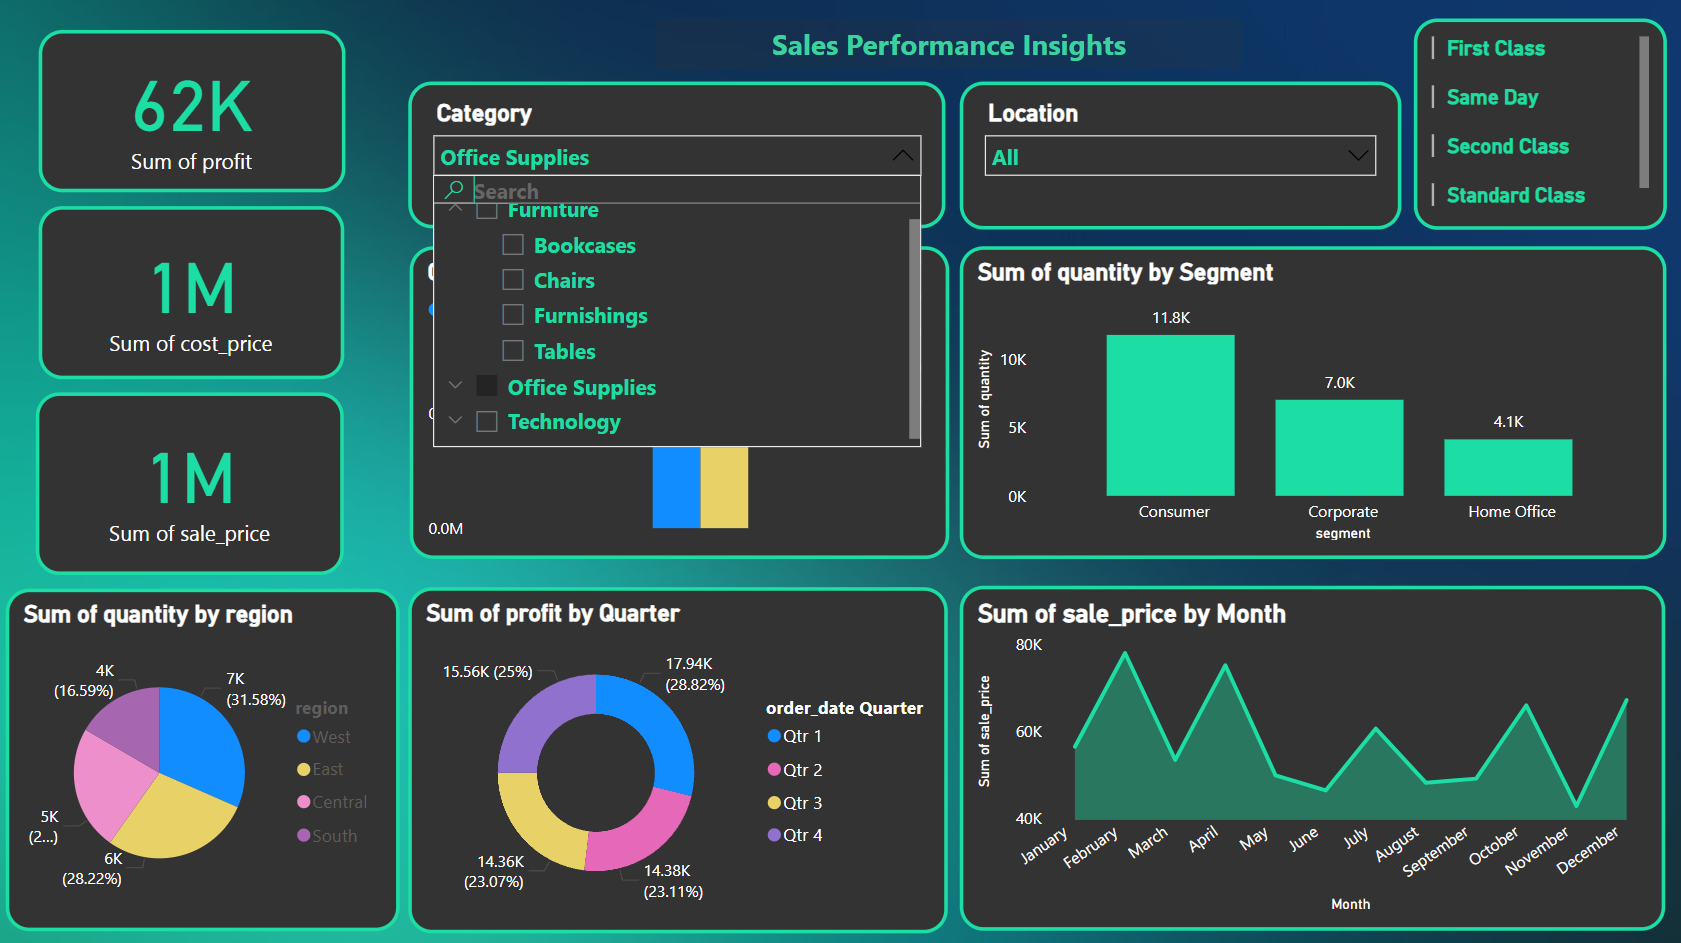

Layout of this report page (visuals, bound fields, positions):
{"tool":"powerbi","page":{"name":"Sales Performance","canvas":[1280,720],"ordinal":0},"visuals":[{"type":"card","fields":{"Values":["Sum(updated_retail_orders.sale_price)"]},"box":[27.8,299.6,234.8,138.8],"z":0},{"type":"card","fields":{"Values":["Sum(updated_retail_orders.profit)"]},"box":[28.9,24.3,233.6,123.8],"z":1000},{"type":"stackedAreaChart","fields":{"Category":["updated_retail_orders.order_date.Variation.Date Hierarchy.Month"],"Y":["Sum(updated_retail_orders.sale_price)"]},"box":[731.2,447.5,537.5,262.5],"z":2000},{"type":"donutChart","fields":{"Category":["updated_retail_orders.order_date.Variation.Date Hierarchy.Quarter"],"Y":["Sum(updated_retail_orders.profit)"]},"box":[310.4,448,410.7,263.5],"z":3000},{"type":"slicer","fields":{"Values":["updated_retail_orders.country","updated_retail_orders.state","updated_retail_orders.city"]},"box":[731.2,63.8,336.2,112.5],"z":4000},{"type":"slicer","fields":{"Values":["updated_retail_orders.category","updated_retail_orders.sub_category"]},"box":[311.1,63.6,409.4,112.2],"z":5000},{"type":"pieChart","fields":{"Category":["updated_retail_orders.region"],"Y":["Sum(updated_retail_orders.quantity)"]},"box":[4.3,449.1,299.7,261.3],"z":6000},{"type":"clusteredColumnChart","title":"Cost price to Sale price","fields":{"Y":["Sum(updated_retail_orders.cost_price)","Sum(updated_retail_orders.sale_price)"]},"box":[311.5,188.8,410.7,237.9],"z":7000},{"type":"clusteredColumnChart","title":"Sum of quantity by Segment","fields":{"Y":["Sum(updated_retail_orders.quantity)"],"Category":["updated_retail_orders.segment"]},"box":[731,188.5,537.8,238.3],"z":8000},{"type":"multiRowCard","fields":{"Values":["updated_retail_orders.ship_mode"]},"box":[1076.8,15,193.2,160.8],"z":9000},{"type":"card","fields":{"Values":["Sum(updated_retail_orders.cost_price)"]},"box":[28.9,158.5,232.5,131.9],"z":10000},{"type":"shape","box":[500,15,446.2,38.8],"z":11000}]}

Visuals, with their boxes in screenshot pixels (x1, y1, x2, y2), scaled from the page's 1280x720 canvas onto the 1681x943 screenshot:
card - Sum(updated_retail_orders.sale_price): region(37, 392, 345, 574)
card - Sum(updated_retail_orders.profit): region(38, 32, 345, 194)
stackedAreaChart - updated_retail_orders.order_date.Variation.Date Hierarchy.Month x Sum(updated_retail_orders.sale_price): region(960, 586, 1666, 930)
donutChart - updated_retail_orders.order_date.Variation.Date Hierarchy.Quarter x Sum(updated_retail_orders.profit): region(408, 587, 947, 932)
slicer - updated_retail_orders.country x updated_retail_orders.state: region(960, 84, 1402, 231)
slicer - updated_retail_orders.category x updated_retail_orders.sub_category: region(409, 83, 946, 230)
pieChart - updated_retail_orders.region x Sum(updated_retail_orders.quantity): region(6, 588, 399, 930)
"Cost price to Sale price" clusteredColumnChart: region(409, 247, 948, 559)
"Sum of quantity by Segment" clusteredColumnChart: region(960, 247, 1666, 559)
multiRowCard - updated_retail_orders.ship_mode: region(1414, 20, 1668, 230)
card - Sum(updated_retail_orders.cost_price): region(38, 208, 343, 380)
shape: region(657, 20, 1243, 70)
